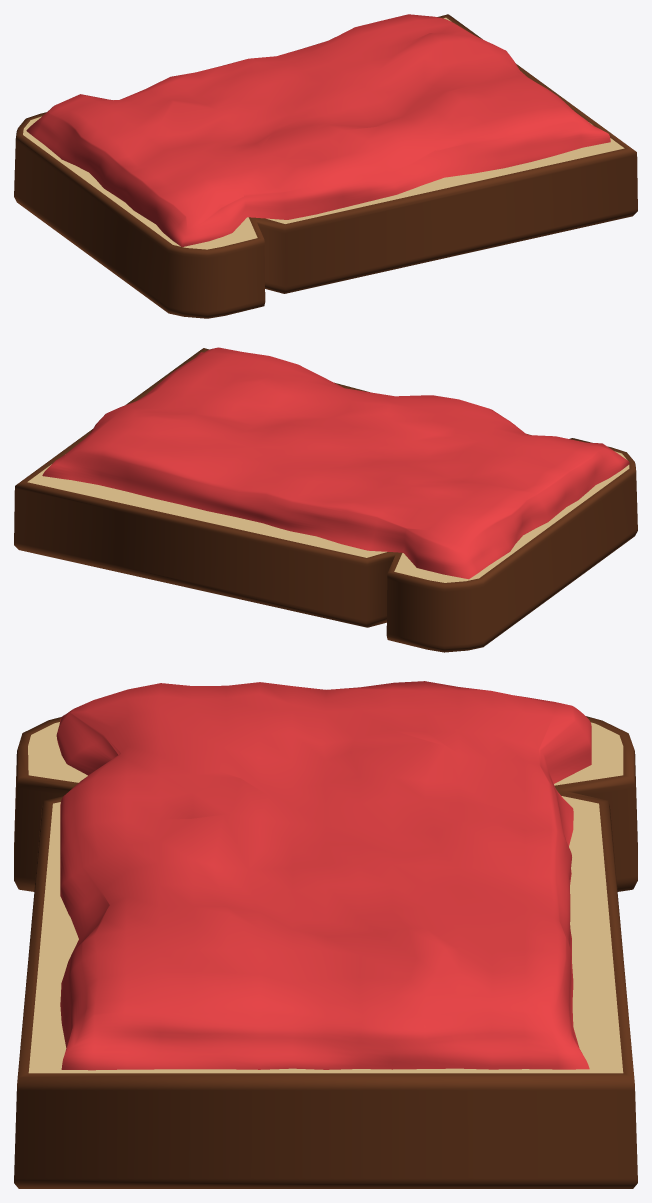
File: toast.fbx
3 renders of one model, top to bottom at view 1: azimuth 30°, elevation 25°; view 2: azimuth 150°, elevation 25°; view 3: azimuth 270°, elevation 25°, orthographic. The views are drawn at different scales.
Visible parts, largest first — view 1: Cube.001, Cube; view 2: Cube.001, Cube; view 3: Cube.001, Cube.
Part boxes in pixels (left/top/right/bottom): Cube.001: left=26, top=14, right=610, bottom=246; Cube: left=14, top=14, right=637, bottom=318; Cube.001: left=42, top=347, right=629, bottom=579; Cube: left=14, top=348, right=637, bottom=652; Cube.001: left=56, top=681, right=591, bottom=1070; Cube: left=14, top=716, right=637, bottom=1188.
Size of the model in its own units: 283 by 64.33 by 203.
